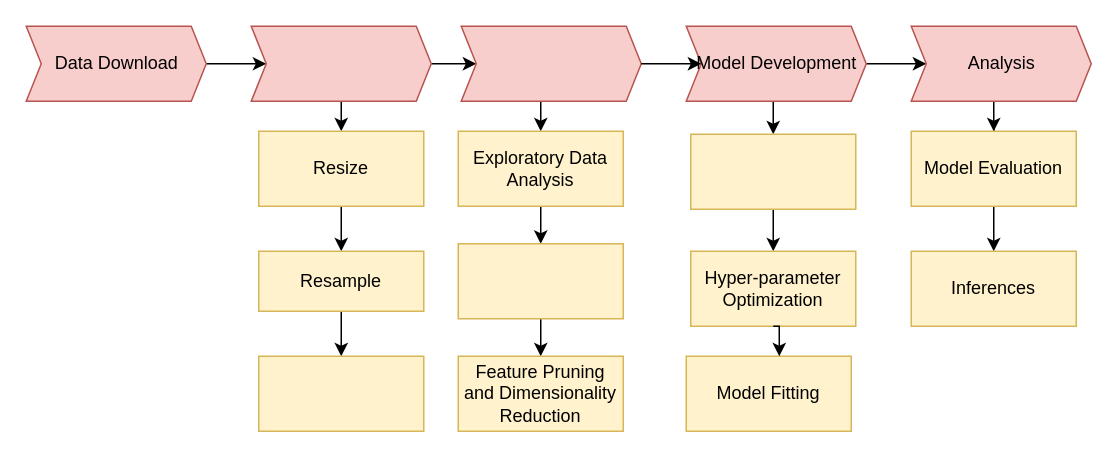
The diagram is 1118 pixels wide and 458 high, and some of its shapes have lost their labels. Each missing label, with the centre of its shape:
"Data Preprocess" goes at point 340,63.
"Feature Creation" goes at point 540,280.
"Feature Extraction" goes at point 550,63.
"Grayscale Conversion" goes at point 340,393.
"Train-Test Split" goes at point 772,171.
